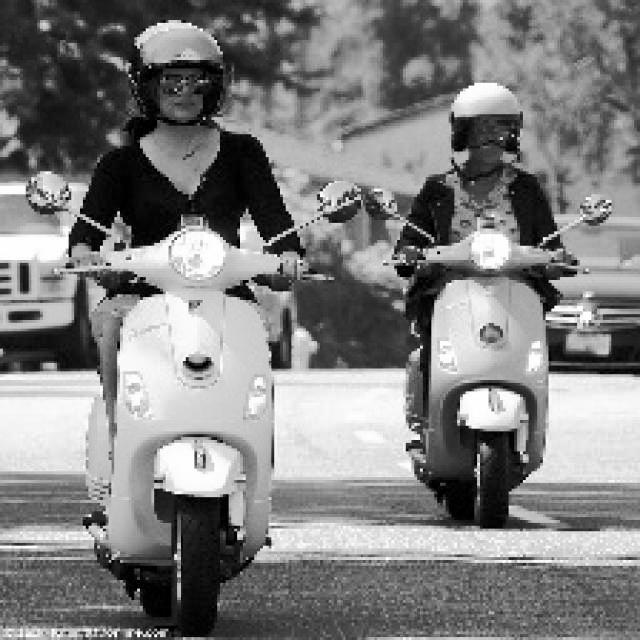Bike: (56, 248, 320, 630), (394, 229, 581, 535)
